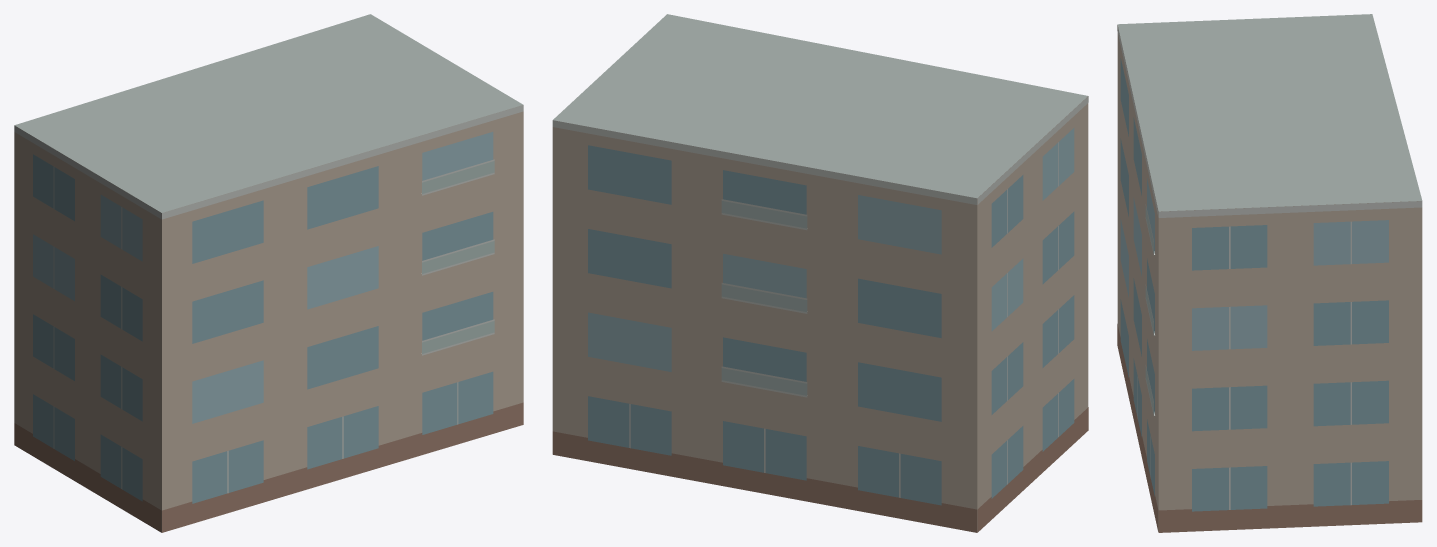
Rendered from survey-upis-32949002.glb.
The picture shows the model from 3 angles, left to right: view 1: azimuth 30°, elevation 25°; view 2: azimuth 150°, elevation 25°; view 3: azimuth 270°, elevation 25°; orthographic projection. The views are drawn at different scales.
Visible parts, largest first — view 1: survey-upis-32949002.tmp; view 2: survey-upis-32949002.tmp; view 3: survey-upis-32949002.tmp.
Boxes of the visible parts, box(x1,y1,x2,y2) form: survey-upis-32949002.tmp: box(14, 14, 523, 532); survey-upis-32949002.tmp: box(552, 14, 1088, 532); survey-upis-32949002.tmp: box(1117, 14, 1422, 532).
Size of the model in its own units: 15.7 by 11.9 by 10.25.
